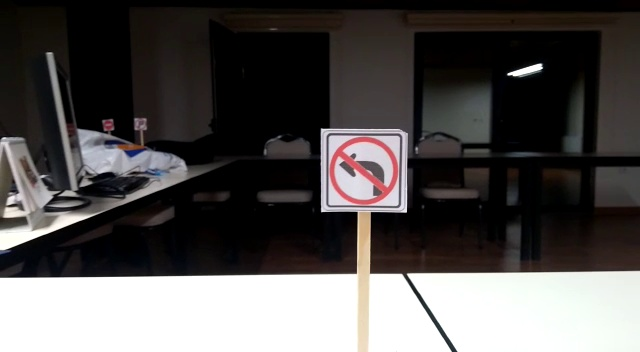sola_donulmez: (325, 129, 404, 208)
